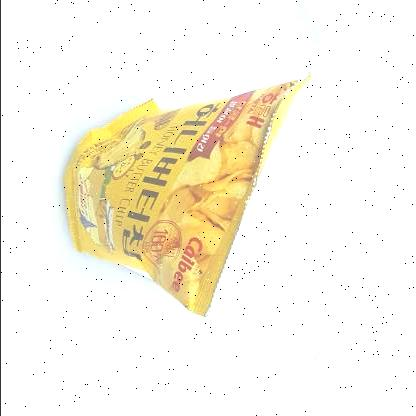Others: (56, 66, 320, 330)
